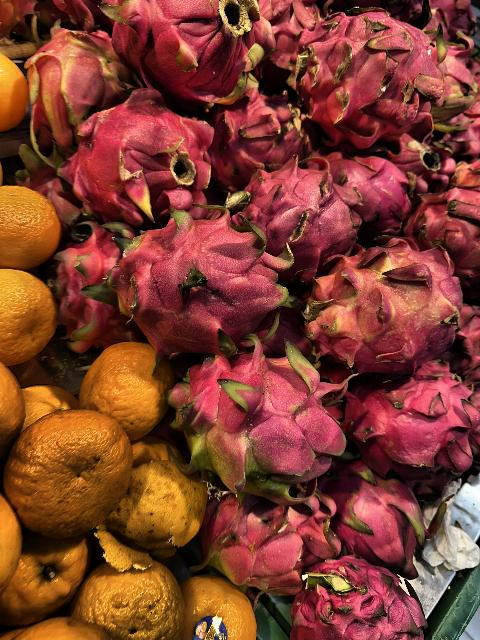buah-naga-belum-matang: (173, 346, 351, 500), (301, 245, 473, 377), (198, 481, 346, 587), (24, 20, 132, 134)
buah-naga-matang: (97, 215, 291, 349), (294, 5, 456, 144), (62, 102, 212, 216), (106, 0, 270, 98), (222, 166, 360, 266), (288, 562, 436, 640), (342, 459, 433, 568), (214, 88, 312, 175), (334, 150, 426, 238)
